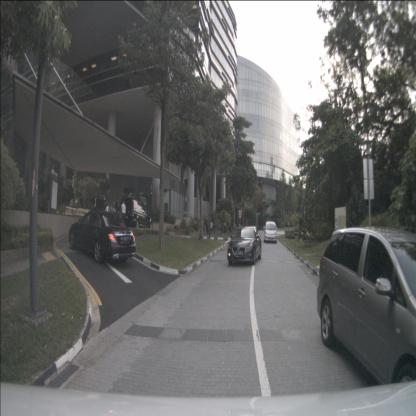human-pedestrian-adult: (89, 197, 96, 231), (120, 200, 126, 228), (115, 197, 120, 223), (70, 196, 74, 219), (206, 221, 210, 235), (210, 221, 213, 236), (213, 221, 216, 235), (221, 224, 225, 234), (223, 220, 226, 233), (229, 224, 232, 233)
vehicle-car: (316, 225, 416, 404), (69, 210, 136, 263), (228, 225, 262, 266), (120, 198, 153, 230), (90, 204, 123, 231), (264, 221, 277, 244)
